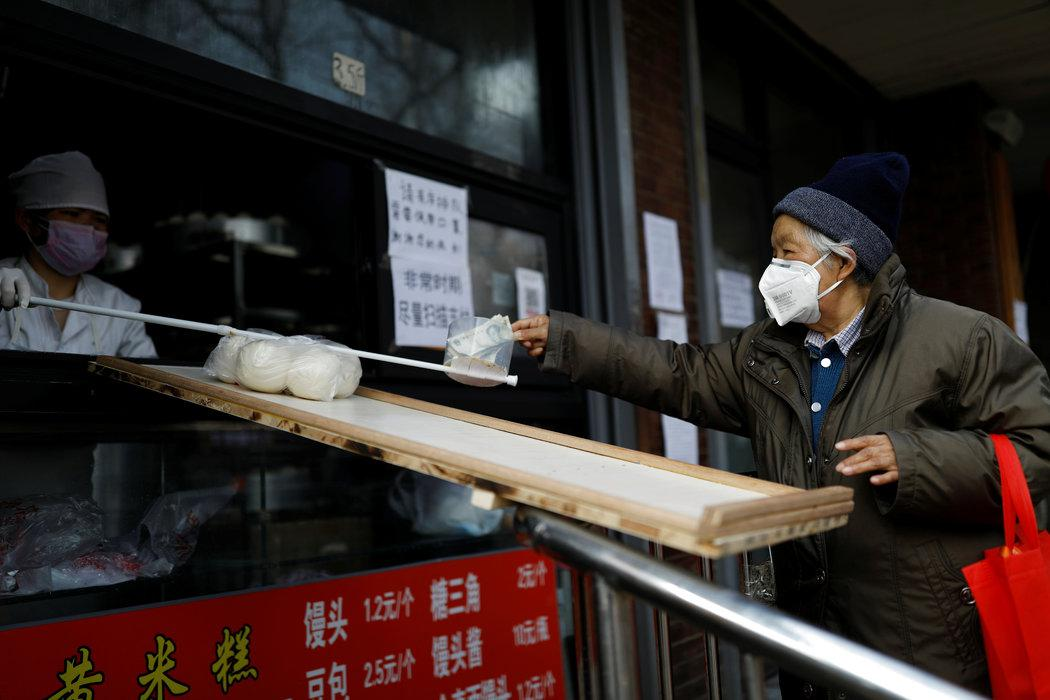mask: (753, 229, 829, 331), (39, 206, 108, 274)
